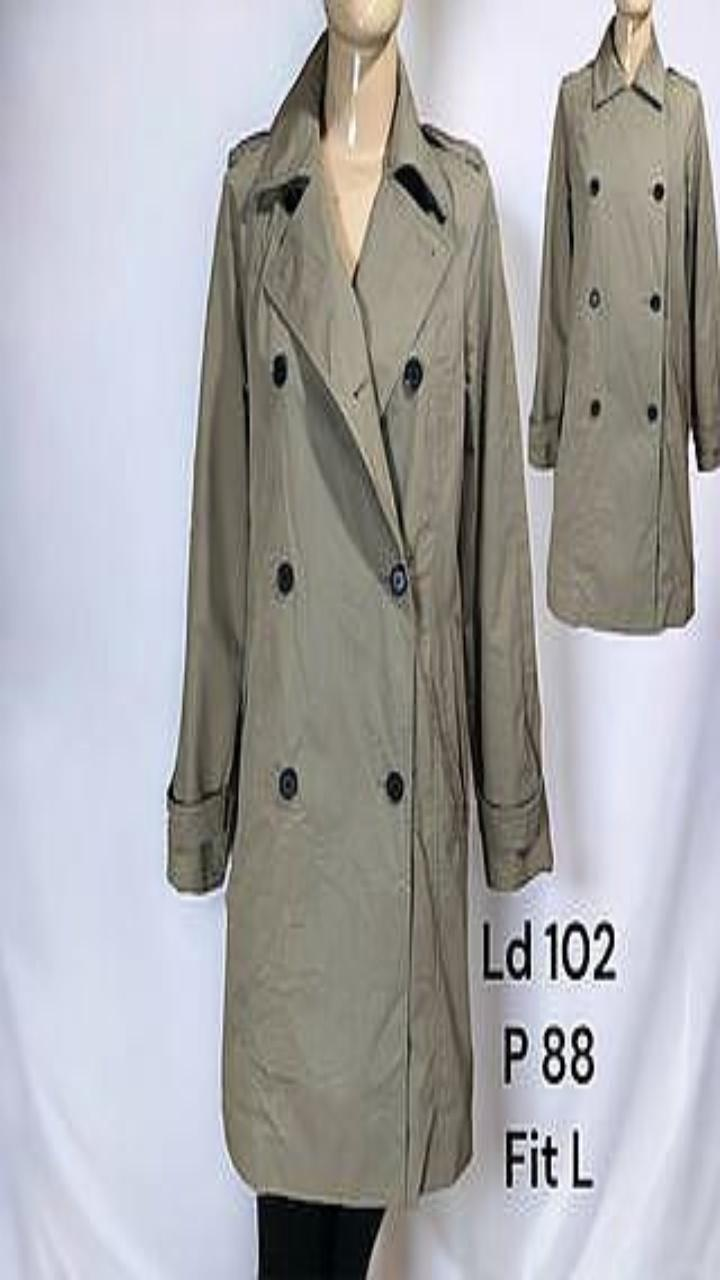Coat: (167, 32, 552, 1205), (529, 19, 719, 631)
